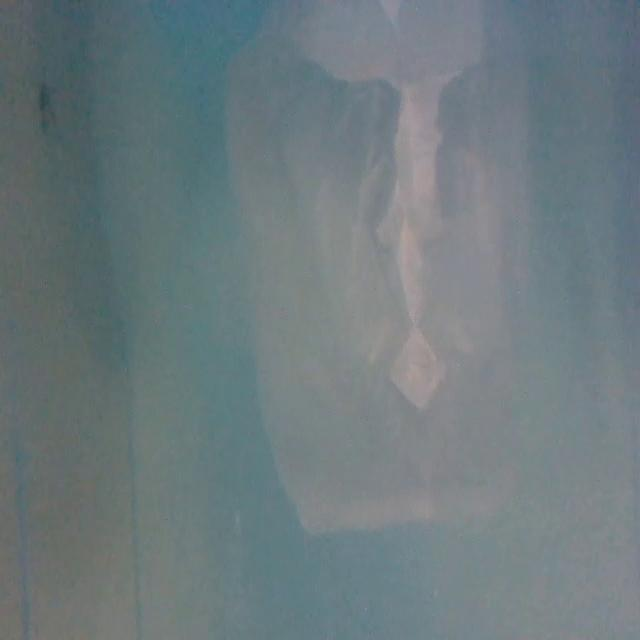plastic bags: (215, 4, 533, 537)
